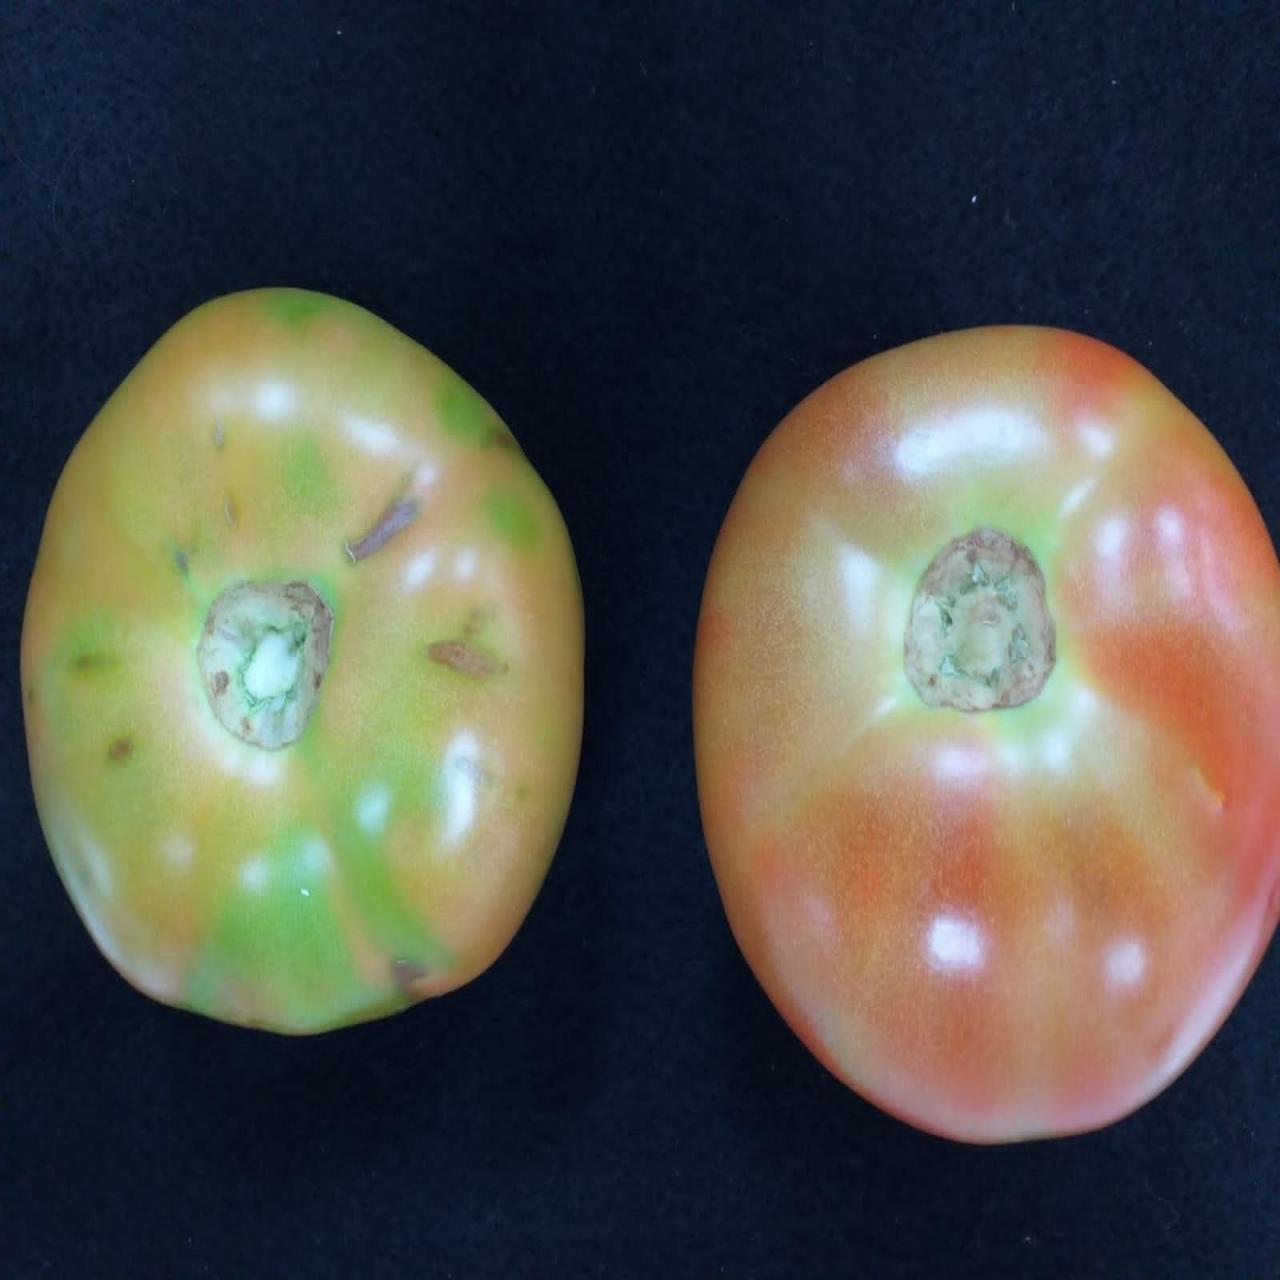T_F_H: (695, 325, 1280, 1143)
T_F_R: (19, 288, 583, 1035)
